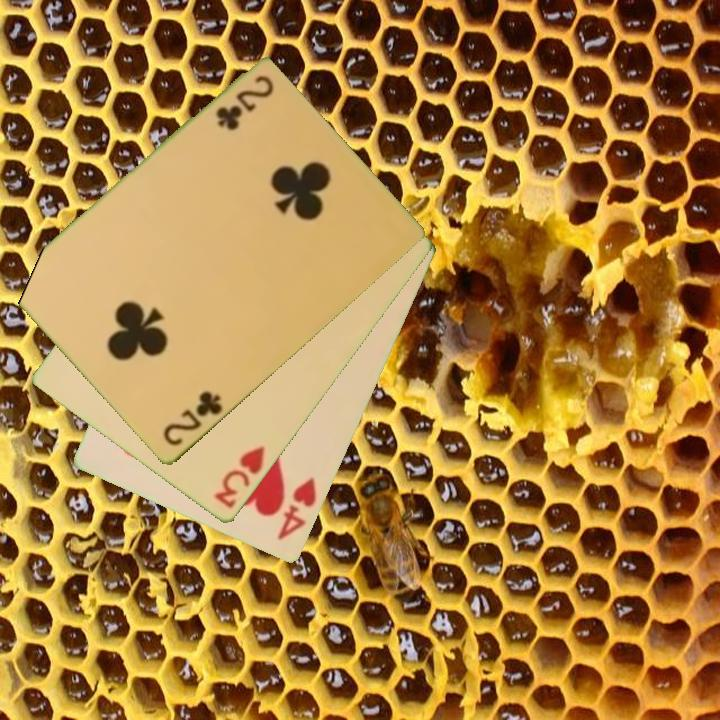2c: (159, 387, 226, 450), (212, 72, 277, 133)
3h: (210, 443, 268, 512)
4h: (274, 475, 320, 544)
